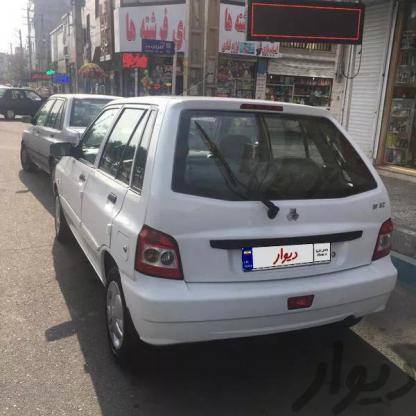Car: (49, 99, 398, 341), (18, 89, 135, 173), (0, 82, 48, 130)
